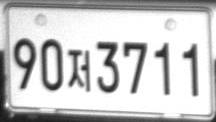0: (40, 38, 64, 90)
1: (152, 42, 176, 95), (180, 43, 204, 96)
3: (95, 41, 120, 92)
7: (123, 41, 147, 94)
9: (13, 37, 36, 89)
저: (67, 49, 90, 91)
